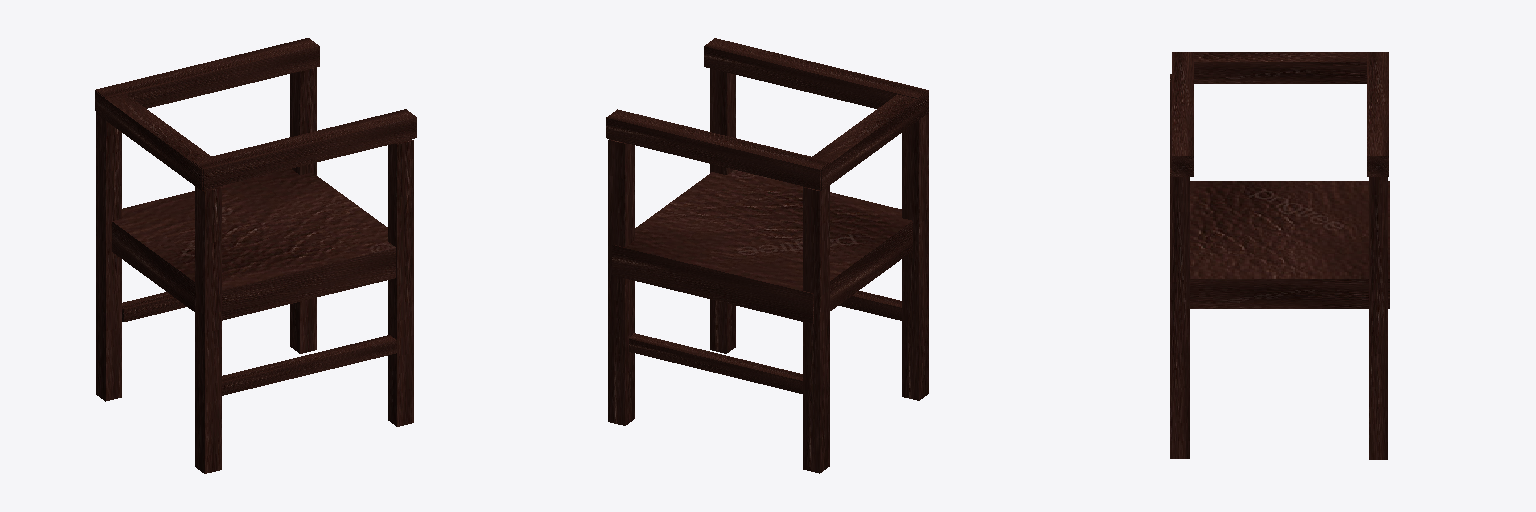
3 renders of one model, left to right at view 1: azimuth 30°, elevation 25°; view 2: azimuth 150°, elevation 25°; view 3: azimuth 270°, elevation 25°, orthographic.
Visible parts, largest first — view 1: polySurface9; view 2: polySurface9; view 3: polySurface9.
Part boxes in pixels (left/top/right/bottom): polySurface9: left=95, top=38, right=416, bottom=473; polySurface9: left=606, top=38, right=928, bottom=473; polySurface9: left=1170, top=52, right=1389, bottom=459.
Bounding box in the file's own units: 2.45 × 3.32 × 2.17.
Materials: 1 (1 with a texture image).